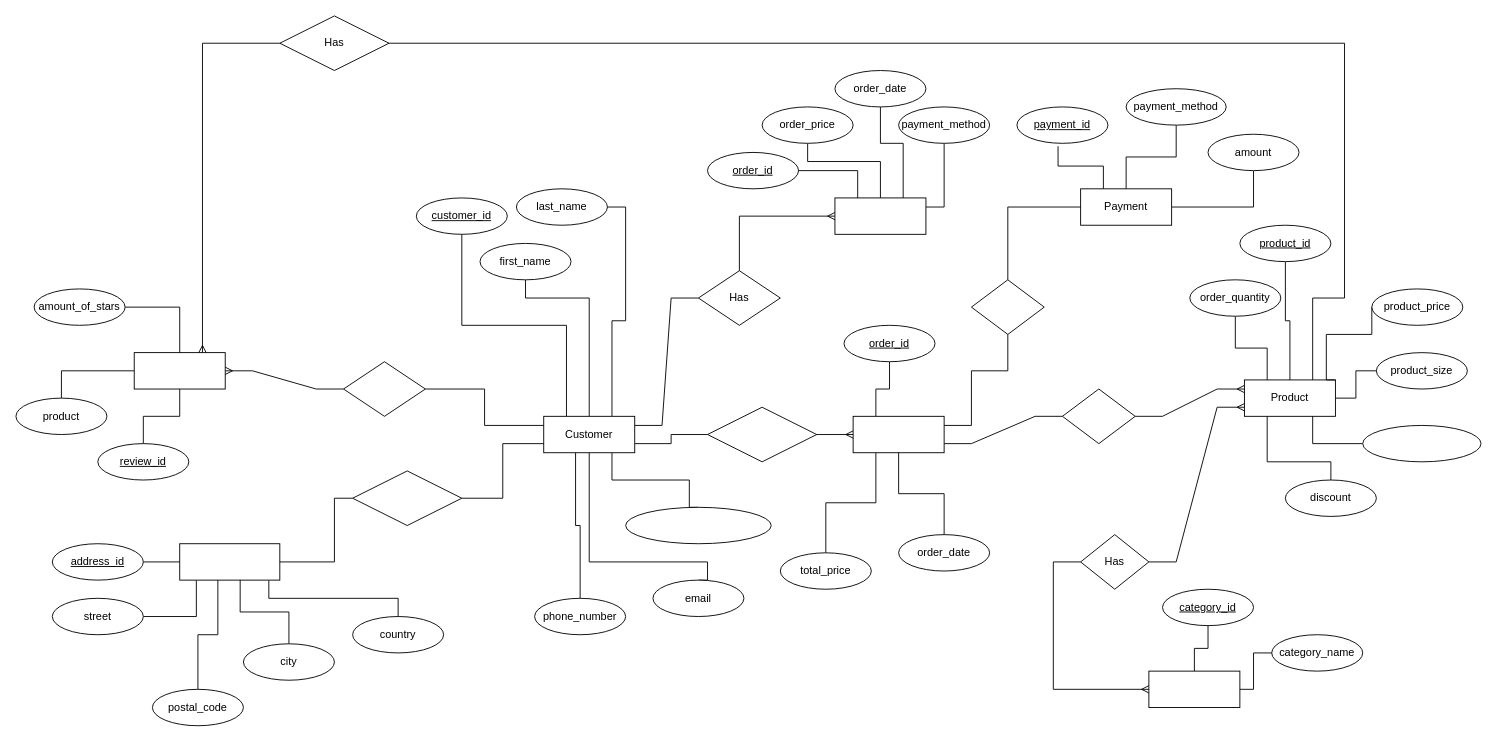
Some shapes in this 1497 by 742 pixel diagram are drawn without their labels. Here are the shapes that lost their labels. From the top down, the centre of each, then its label:
At (x=880, y=215): "Order_history".
At (x=1007, y=306): "Paid".
At (x=179, y=370): "Review".
At (x=384, y=388): "Reviewing".
At (x=762, y=434): "Orders".
At (x=898, y=434): "Order".
At (x=1098, y=416): "Contains".
At (x=1421, y=443): "product_description".
At (x=407, y=498): "Lives at".
At (x=698, y=525): "preffered_payment_method".
At (x=229, y=561): "Customer_address".
At (x=1194, y=689): "Category".
